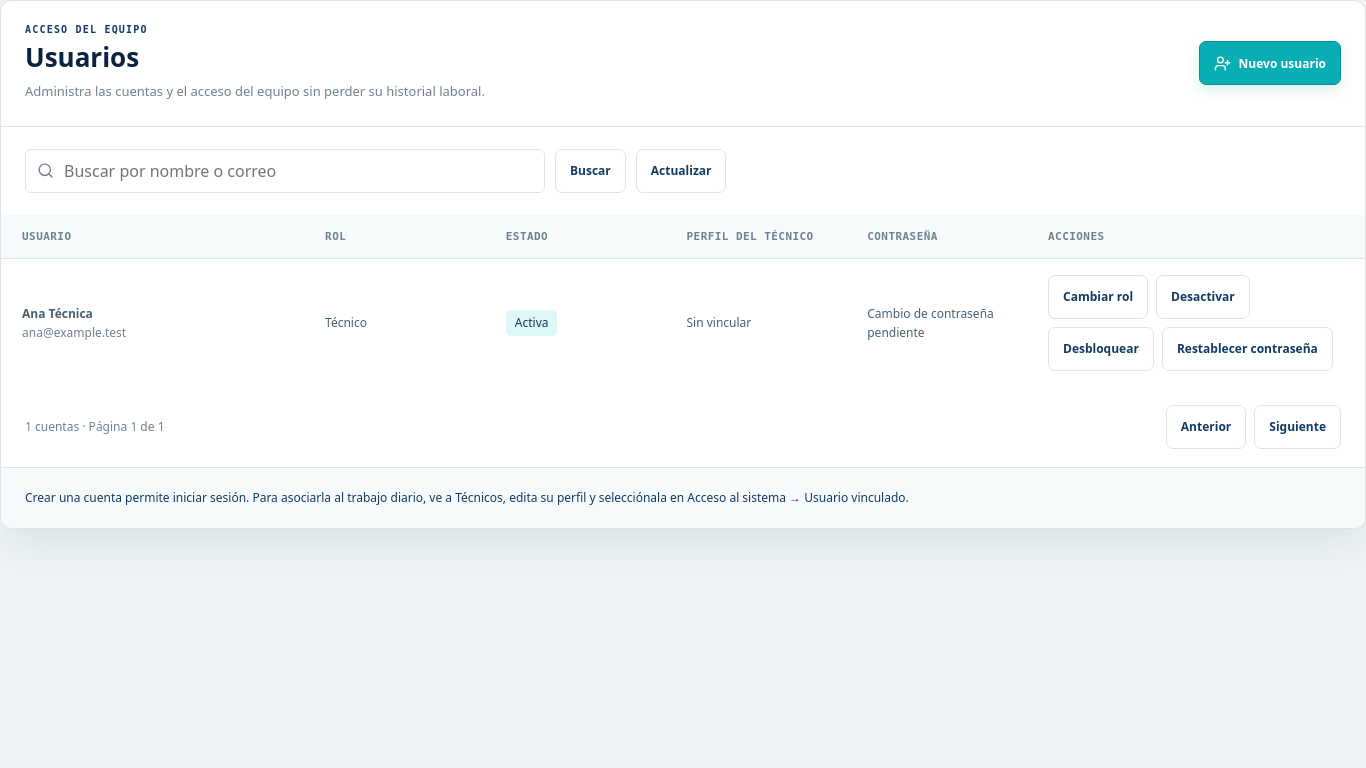
Test case: usuarios en configuración › requiere confirmar la desactivación y envía la versión vigente
The image size is (1366, 768).
Click the button "Desactivar".
click(1203, 297)  # box [1156,275,1250,319]
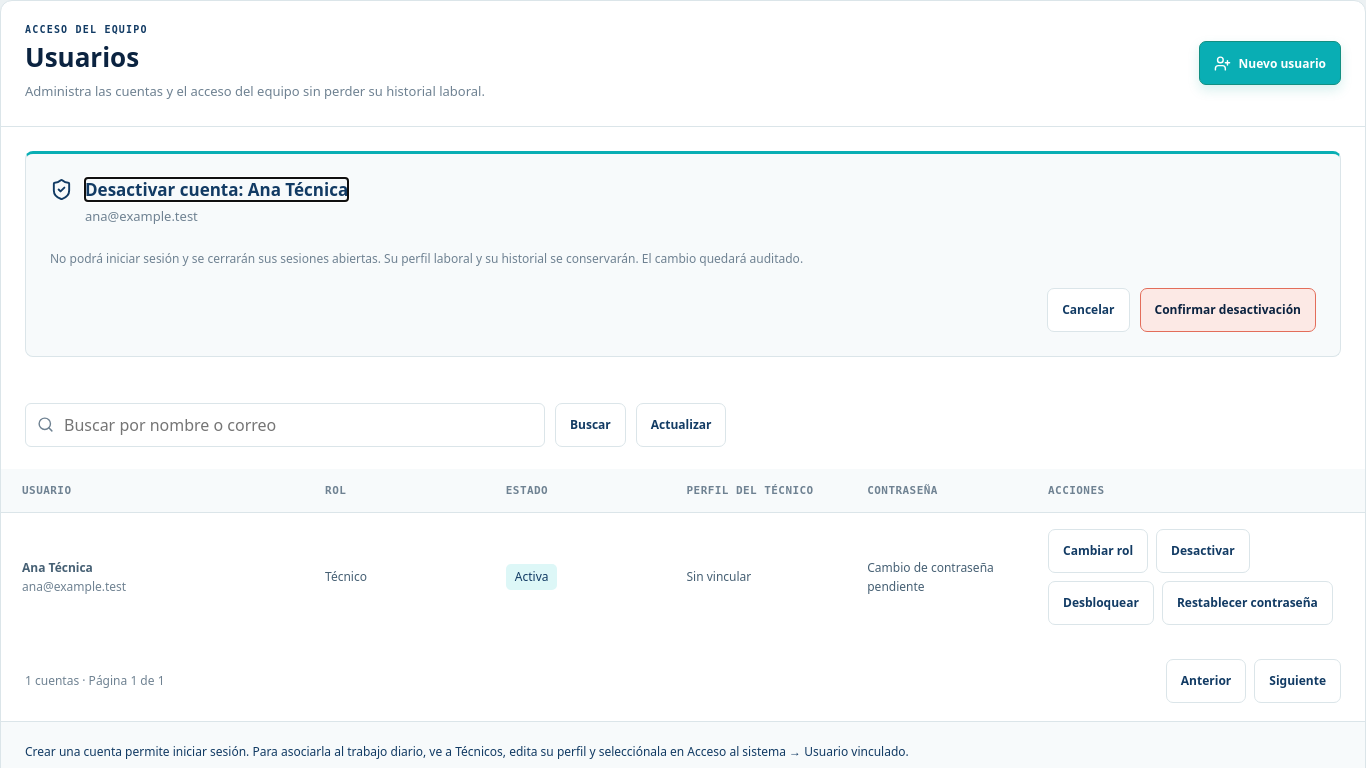
Check: the text "No podrá iniciar sesión" is shown, box [50,250,639,267]
Click the button "Confirmar desactivación".
click(1228, 310)  # box [1140,288,1316,332]
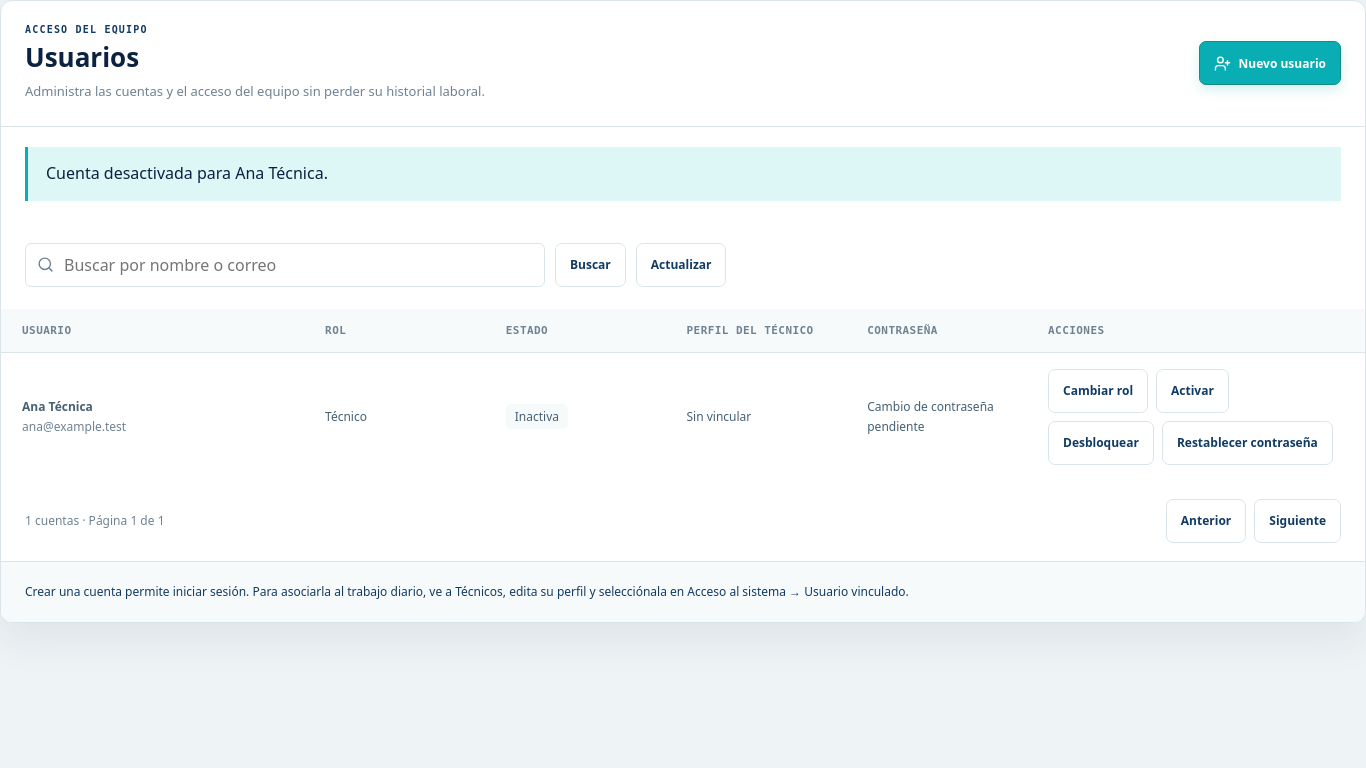
Check: the message shows "Cuenta desactivada", box [46,162,328,184]
